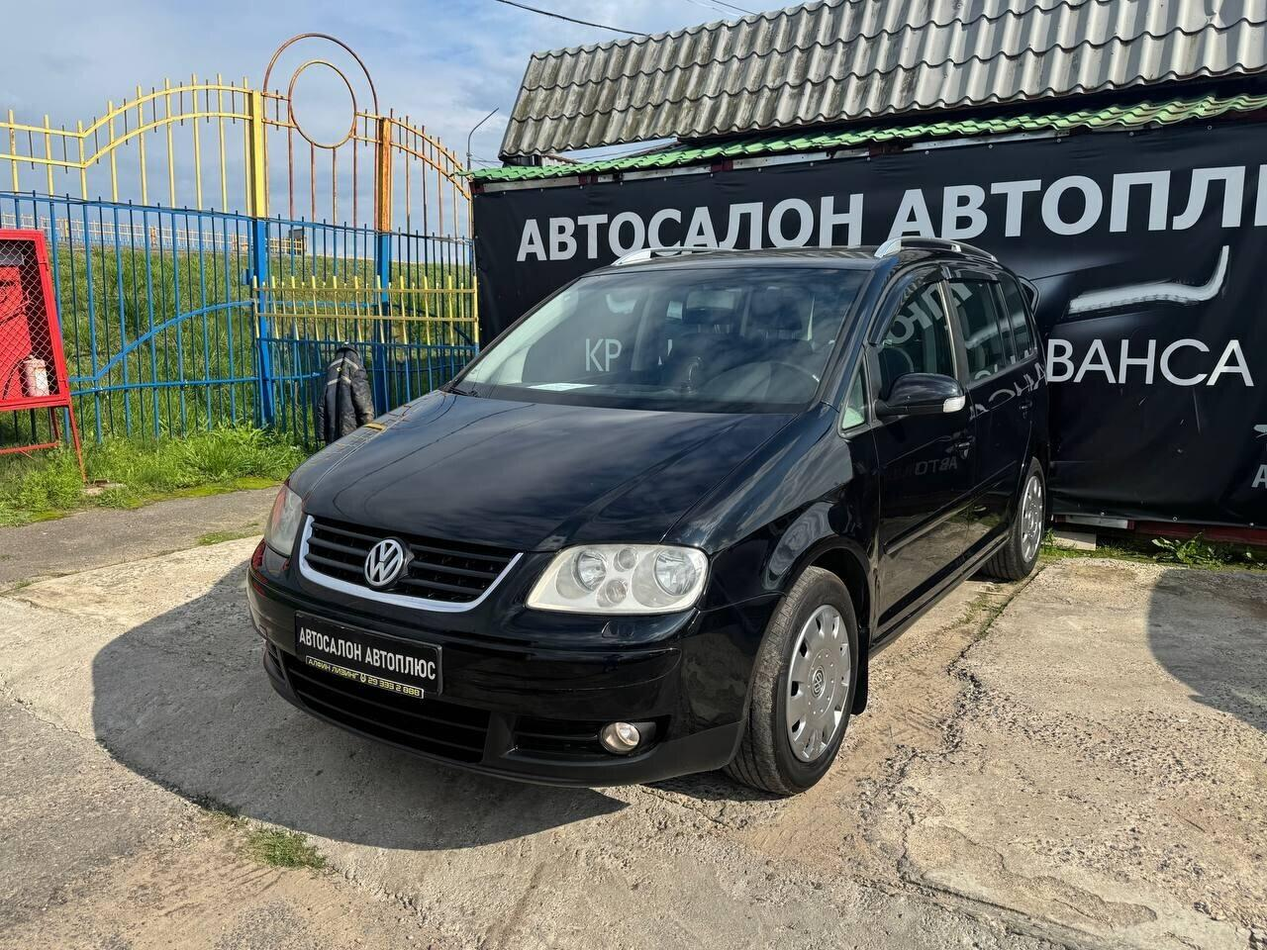Touran_2003-2006: (244, 245, 1054, 787)
